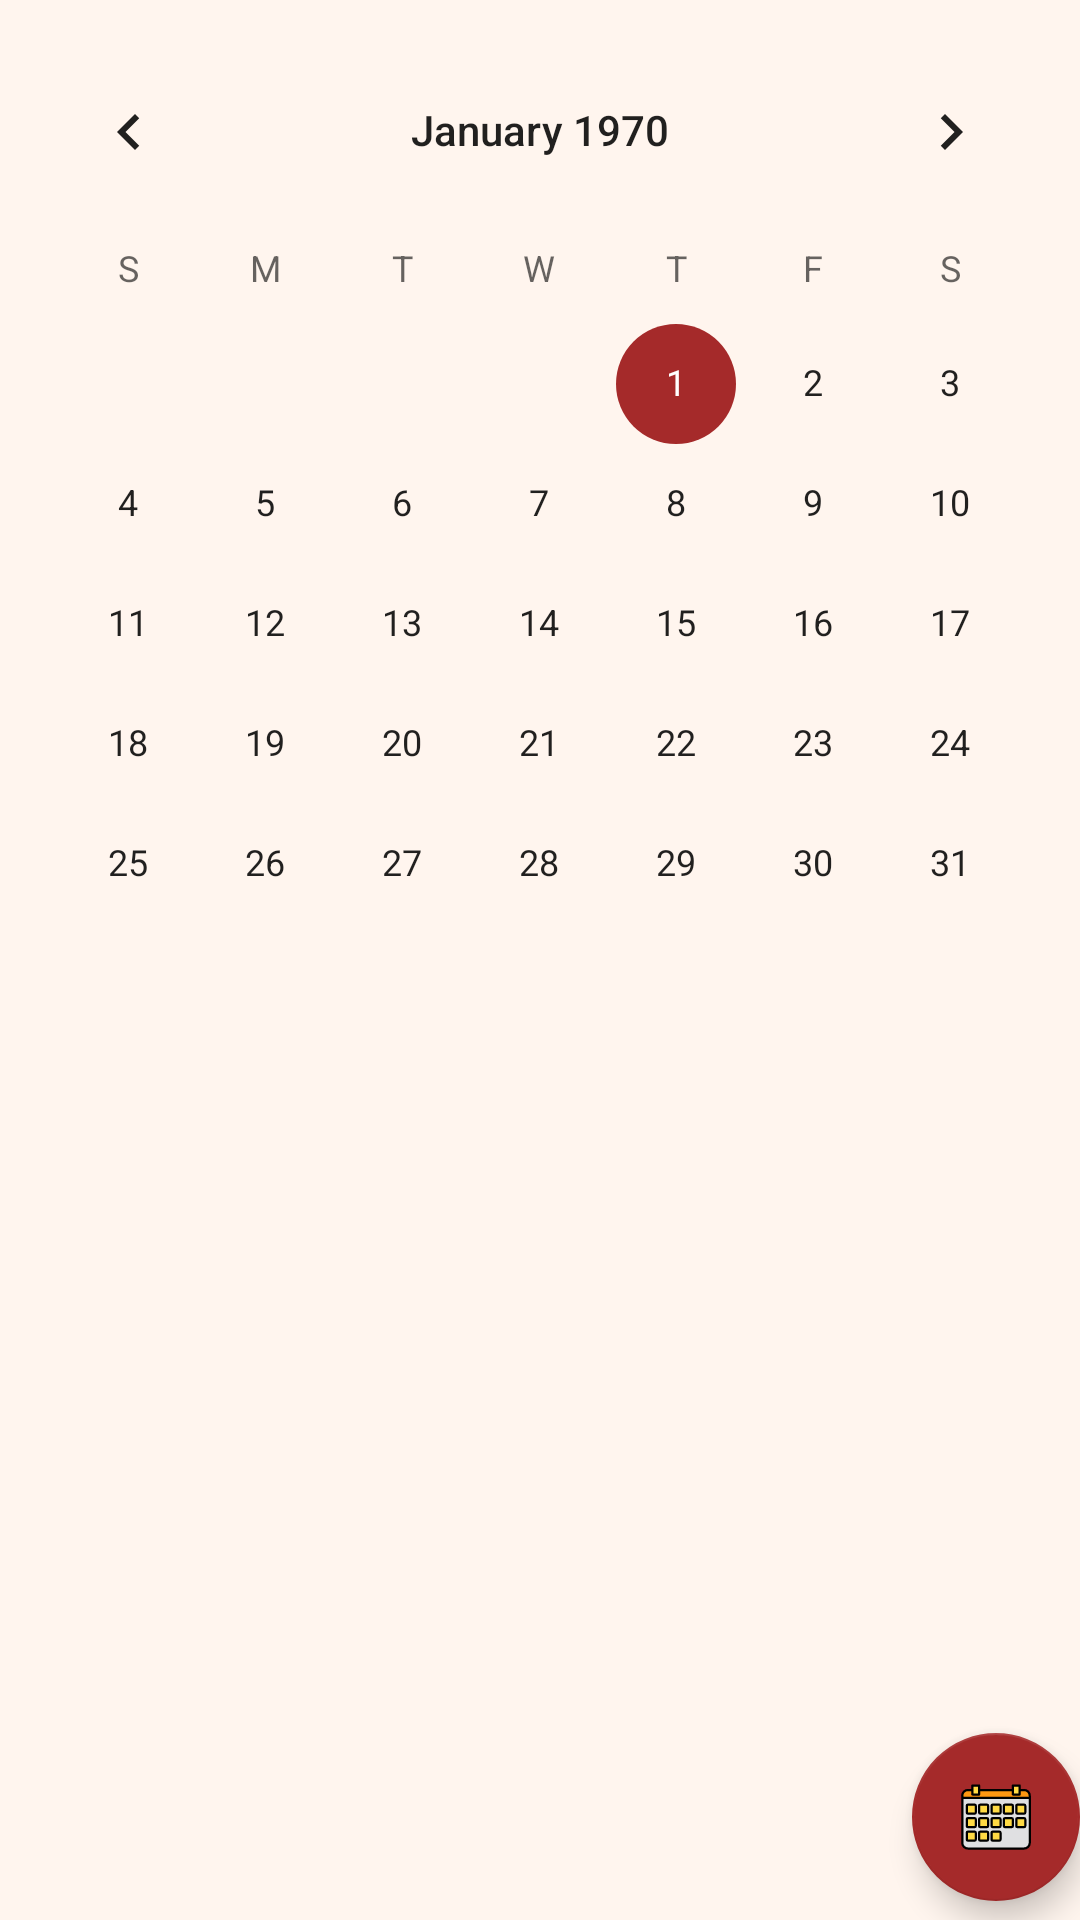

Icon bounding boxes for this 1080x1920 phone screenshot, format (x1, y1, x2, y2):
horario de trabajo: (912, 1733, 1080, 1901)
